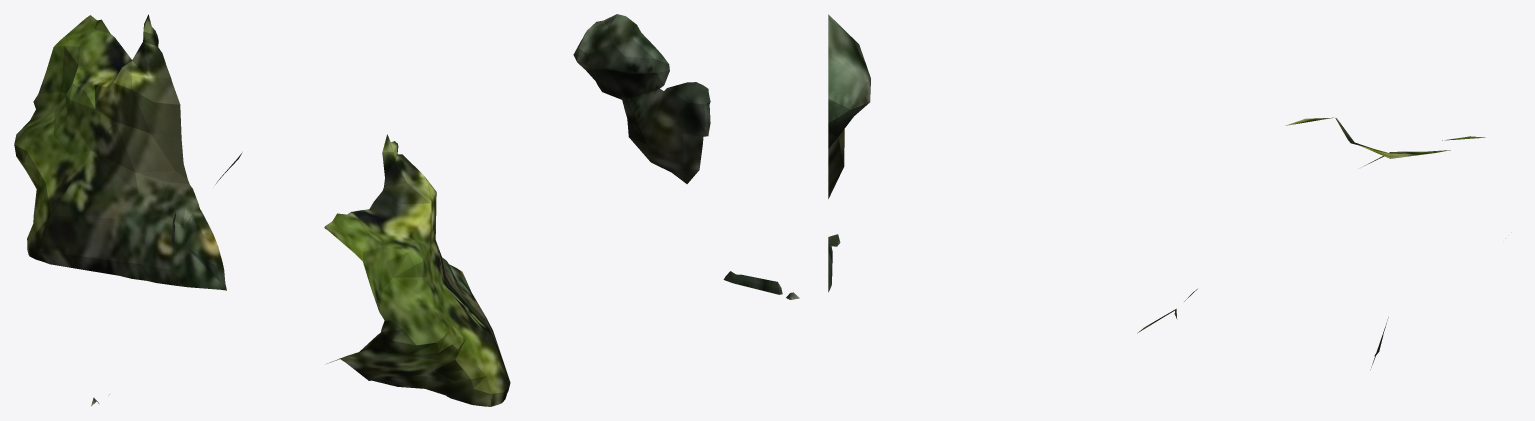
The picture shows the model from 3 angles, left to right: view 1: azimuth 30°, elevation 25°; view 2: azimuth 150°, elevation 25°; view 3: azimuth 270°, elevation 25°; orthographic projection. The views are drawn at different scales.
Size of the model in its own units: 0.961 by 0.9291 by 1.67.
1 material, 1 textured.
